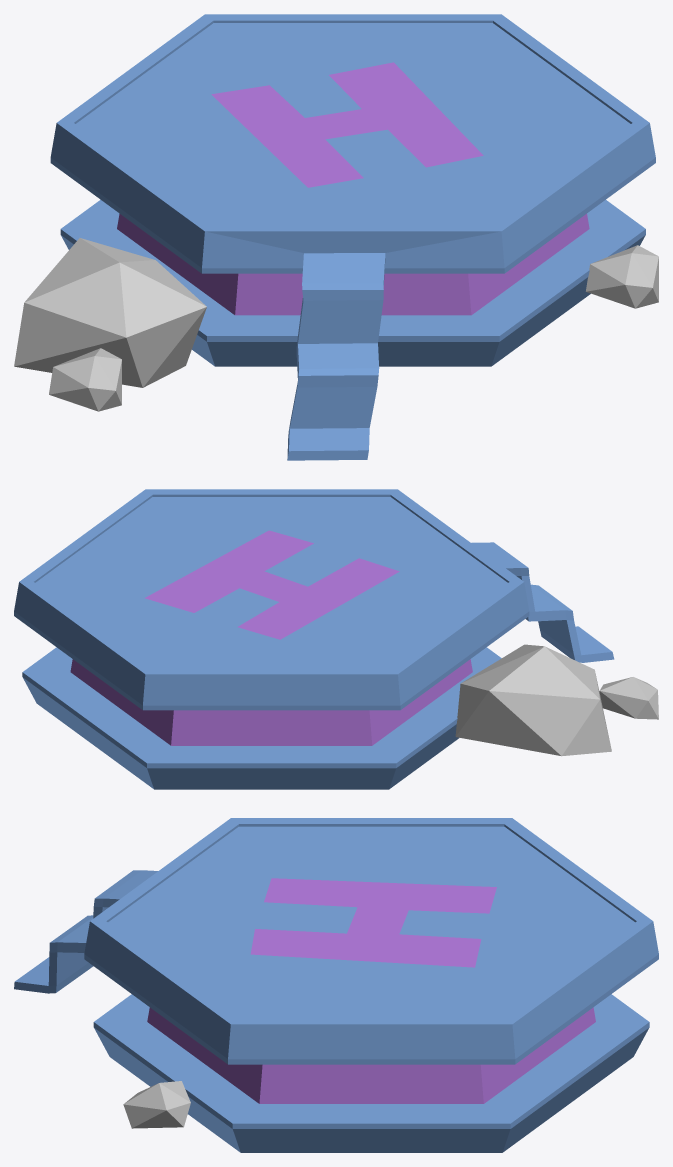
File: garden3.glb
The picture shows the model from 3 angles, top to bottom: view 1: azimuth 30°, elevation 25°; view 2: azimuth 150°, elevation 25°; view 3: azimuth 270°, elevation 25°; orthographic projection. The views are drawn at different scales.
Visible parts, largest first — view 1: Окружность, Икосфера.011, Икосфера.013, Икосфера.012; view 2: Окружность, Икосфера.011, Икосфера.012; view 3: Окружность, Икосфера.013.
Boxes of the visible parts, <box> form: Окружность: <box>50,14,655,460</box>; Икосфера.011: <box>14,238,206,387</box>; Икосфера.013: <box>585,245,658,308</box>; Икосфера.012: <box>49,348,121,411</box>; Окружность: <box>14,489,614,789</box>; Икосфера.011: <box>455,644,611,756</box>; Икосфера.012: <box>599,677,658,719</box>; Окружность: <box>14,818,658,1152</box>; Икосфера.013: <box>123,1081,190,1128</box>.
Size of the model in its own units: 7.69 by 1.91 by 7.46.
Materials: 1 (1 with a texture image).
